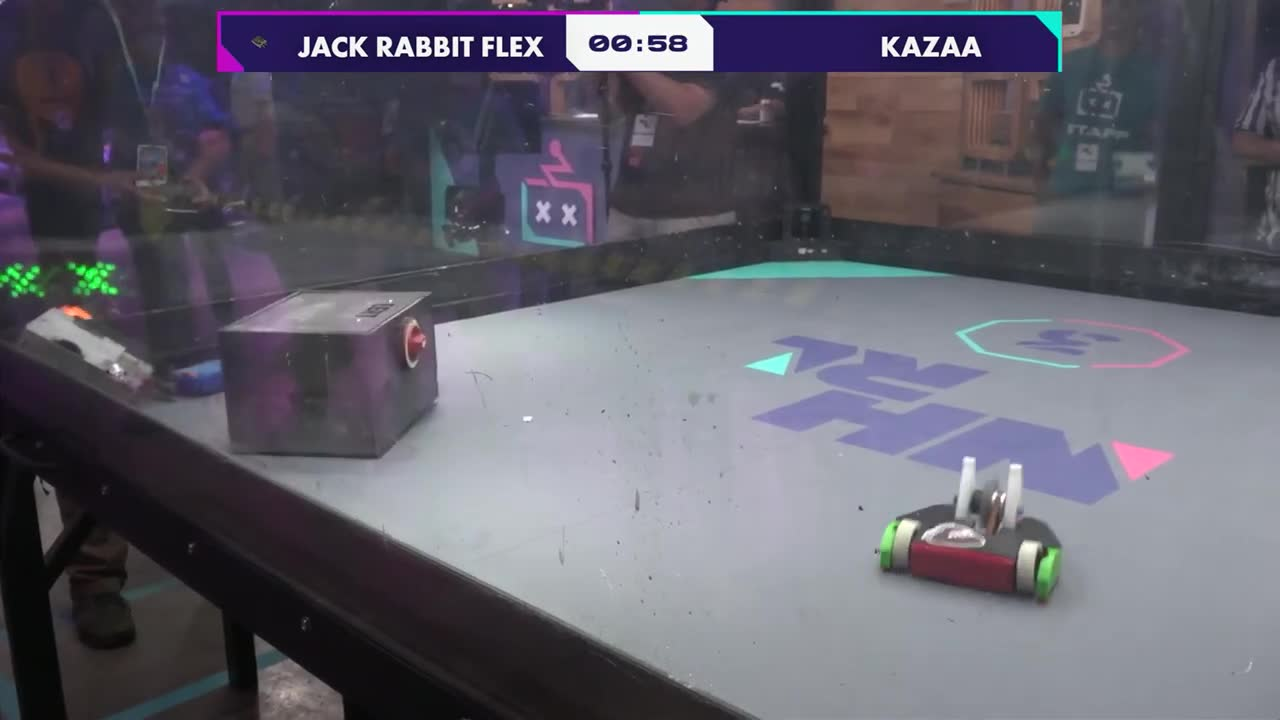combatbot: (879, 458, 1063, 606), (18, 307, 170, 414)
housebot: (223, 287, 443, 463)
minibot: (172, 359, 221, 397)
